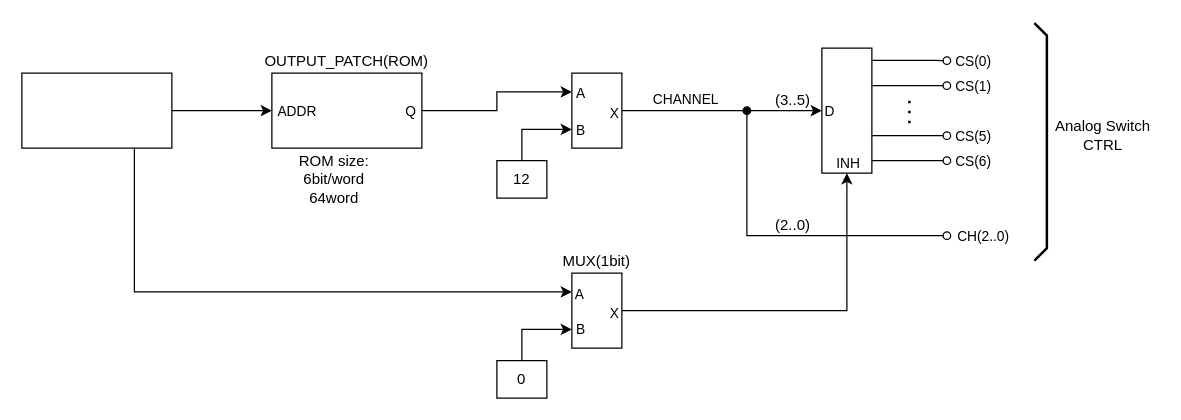
Some shapes in this 1181 by 420 pixel diagram are drawn without their labels. The centre of each missing label's shape, as x and y in pixels:
"Decorder" goes at point 846,110.
"MUX(6bit)" goes at point 596,110.
